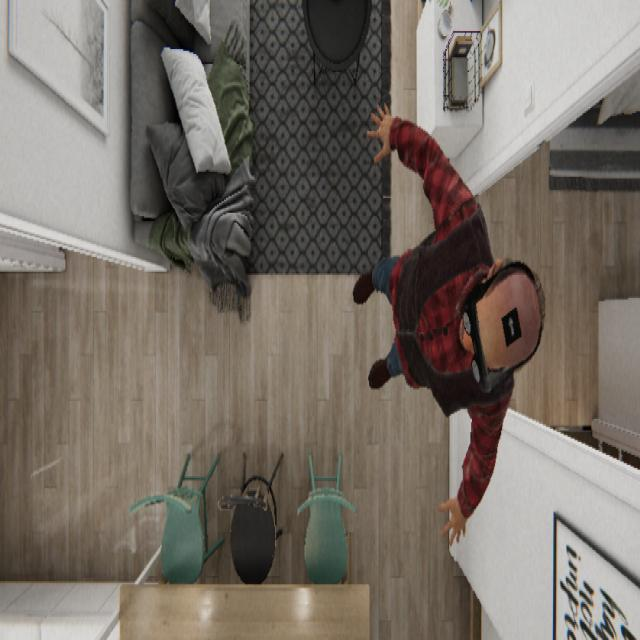Human: (352, 100, 546, 548)
UnityLogo: (470, 259, 546, 383), (500, 303, 522, 347)
